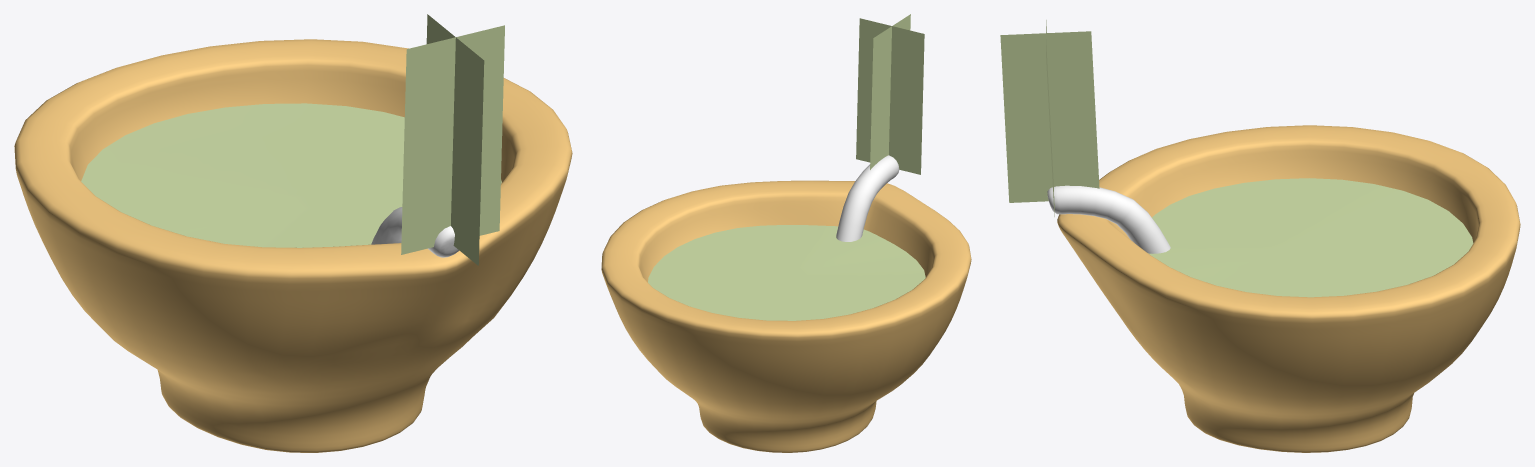
The picture shows the model from 3 angles, left to right: view 1: azimuth 30°, elevation 25°; view 2: azimuth 150°, elevation 25°; view 3: azimuth 270°, elevation 25°; orthographic projection. The views are drawn at different scales.
Visible parts, largest first — view 1: CLamp_LP, CLamp_oil, Flame3, wire1; view 2: CLamp_LP, CLamp_oil, Flame3, wire1; view 3: CLamp_LP, CLamp_oil, Flame3, wire1.
Part boxes in pixels (x1,y1,x2,y2): CLamp_LP: [14, 39, 572, 452]; CLamp_oil: [81, 103, 501, 247]; Flame3: [401, 14, 504, 265]; wire1: [371, 207, 459, 257]; CLamp_LP: [601, 180, 971, 452]; CLamp_oil: [648, 225, 925, 320]; Flame3: [856, 14, 924, 174]; wire1: [836, 155, 899, 241]; CLamp_LP: [1057, 125, 1520, 452]; CLamp_oil: [1148, 178, 1473, 297]; Flame3: [1000, 20, 1099, 216]; wire1: [1047, 185, 1170, 253].
Bounding box in the file's own units: 1.62 × 1.53 × 1.89.
